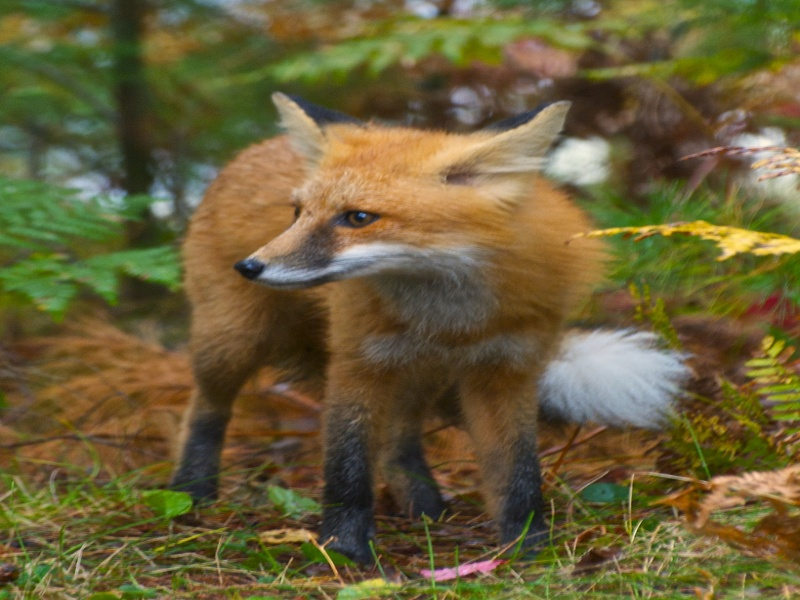fox: (153, 89, 691, 555)
